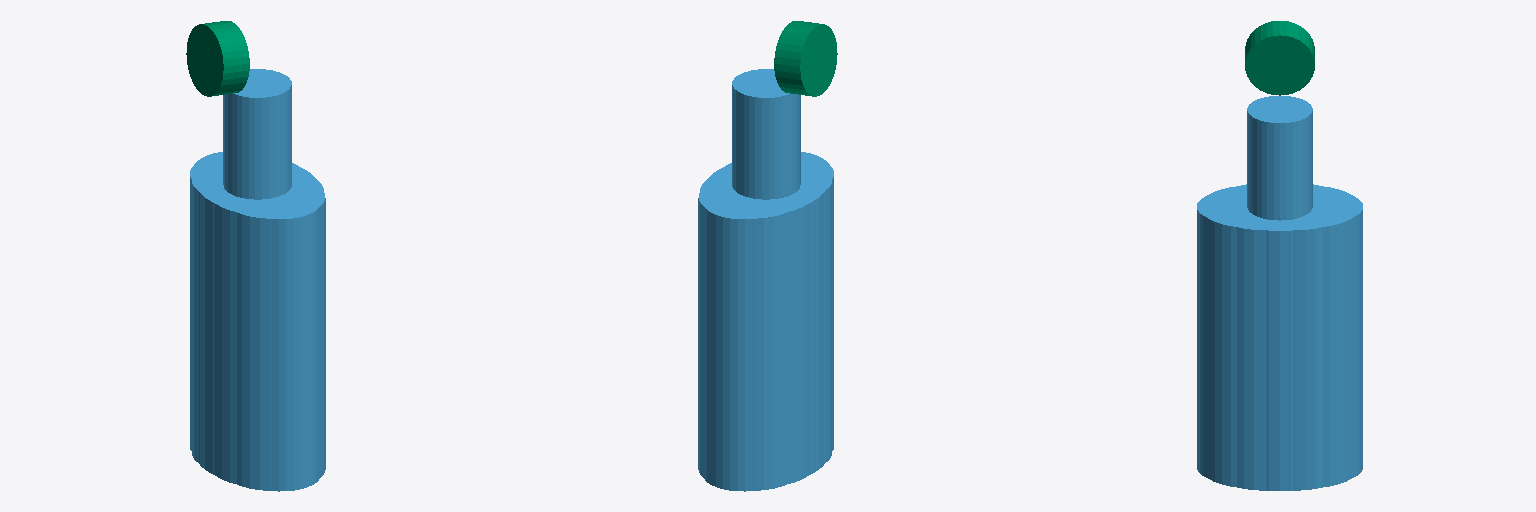
robot.urdf — procedural_ketchup_0:
<?xml version="1.0" ?>
<robot name="procedural_ketchup_0">
  <link name="root">
    <inertial>
      <origin xyz="0 0 0" rpy="0 0 0"/>
      <mass value="0.01"/>
      <inertia ixx="1e-6" ixy="0" ixz="0" iyy="1e-6" iyz="0" izz="1e-6"/>
    </inertial>
  </link>

  <joint name="base_fixed" type="fixed">
    <parent link="root"/>
    <child link="bottom"/>
    <origin xyz="0 0 0" rpy="0 0 0"/>
  </joint>

  <link name="bottom">
    <inertial>
      <origin xyz="0 0 0.06984267995868661" rpy="0 0 0"/>
      <mass value="0.6"/>
      <inertia ixx="1e-4" ixy="0" ixz="0" iyy="1e-4" iyz="0" izz="1e-4"/>
    </inertial>

    <visual>
      <origin xyz="0.0 -0.019218951660425004 0.06116053690744114" rpy="0 0 0"/>
      <geometry><cylinder radius="0.01626568350530389" length="0.12232107381488228"/></geometry>
    </visual>
    <visual>
      <origin xyz="0.0 -0.012812634440283337 0.06116053690744114" rpy="0 0 0"/>
      <geometry><cylinder radius="0.021296778826642774" length="0.12232107381488228"/></geometry>
    </visual>
    <visual>
      <origin xyz="0.0 -0.006406317220141669 0.06116053690744114" rpy="0 0 0"/>
      <geometry><cylinder radius="0.023810522579075726" length="0.12232107381488228"/></geometry>
    </visual>
    <visual>
      <origin xyz="0.0 0.0 0.06116053690744114" rpy="0 0 0"/>
      <geometry><cylinder radius="0.024591401976868255" length="0.12232107381488228"/></geometry>
    </visual>
    <visual>
      <origin xyz="0.0 0.006406317220141669 0.06116053690744114" rpy="0 0 0"/>
      <geometry><cylinder radius="0.023810522579075726" length="0.12232107381488228"/></geometry>
    </visual>
    <visual>
      <origin xyz="0.0 0.012812634440283337 0.06116053690744114" rpy="0 0 0"/>
      <geometry><cylinder radius="0.021296778826642774" length="0.12232107381488228"/></geometry>
    </visual>
    <visual>
      <origin xyz="0.0 0.019218951660425004 0.06116053690744114" rpy="0 0 0"/>
      <geometry><cylinder radius="0.01626568350530389" length="0.12232107381488228"/></geometry>
    </visual>

    <collision>
      <origin xyz="0.0 -0.019218951660425004 0.06116053690744114" rpy="0 0 0"/>
      <geometry><cylinder radius="0.01626568350530389" length="0.12232107381488228"/></geometry>
    </collision>
    <collision>
      <origin xyz="0.0 -0.012812634440283337 0.06116053690744114" rpy="0 0 0"/>
      <geometry><cylinder radius="0.021296778826642774" length="0.12232107381488228"/></geometry>
    </collision>
    <collision>
      <origin xyz="0.0 -0.006406317220141669 0.06116053690744114" rpy="0 0 0"/>
      <geometry><cylinder radius="0.023810522579075726" length="0.12232107381488228"/></geometry>
    </collision>
    <collision>
      <origin xyz="0.0 0.0 0.06116053690744114" rpy="0 0 0"/>
      <geometry><cylinder radius="0.024591401976868255" length="0.12232107381488228"/></geometry>
    </collision>
    <collision>
      <origin xyz="0.0 0.006406317220141669 0.06116053690744114" rpy="0 0 0"/>
      <geometry><cylinder radius="0.023810522579075726" length="0.12232107381488228"/></geometry>
    </collision>
    <collision>
      <origin xyz="0.0 0.012812634440283337 0.06116053690744114" rpy="0 0 0"/>
      <geometry><cylinder radius="0.021296778826642774" length="0.12232107381488228"/></geometry>
    </collision>
    <collision>
      <origin xyz="0.0 0.019218951660425004 0.06116053690744114" rpy="0 0 0"/>
      <geometry><cylinder radius="0.01626568350530389" length="0.12232107381488228"/></geometry>
    </collision>

    <visual>
      <origin xyz="0 0 0.1451646651689792" rpy="0 0 0"/>
      <geometry><cylinder radius="0.013945429774513504" length="0.045687182708193816"/></geometry>
    </visual>

    <collision>
      <origin xyz="0 0 0.1451646651689792" rpy="0 0 0"/>
      <geometry><cylinder radius="0.013945429774513504" length="0.045687182708193816"/></geometry>
    </collision>
  </link>

  <joint name="rotation" type="revolute">
    <parent link="bottom"/>
    <child link="top"/>
    <origin xyz="-0.013945429774513504 0 0.1680082565230761" rpy="0 0 0"/>
    <axis xyz="0 -1 0"/>
    <dynamics damping="0.5" friction="0.2"/>
    <limit effort="1000.0" velocity="200.0" lower="0.087" upper="2.85"/>
  </joint>

  <link name="top">
    <inertial>
      <origin xyz="0.014934201938486135 0.0 0.006182356070820062" rpy="0 0 0"/>
      <mass value="0.08"/>
      <inertia ixx="1e-4" ixy="0" ixz="0" iyy="1e-4" iyz="0" izz="1e-4"/>
    </inertial>

    <visual>
      <origin xyz="0.014934201938486135 0.0 0.006182356070820062" rpy="0 0 0"/>
      <geometry><cylinder radius="0.014934201938486135" length="0.012364712141640123"/></geometry>
    </visual>
    <collision>
      <origin xyz="0.014934201938486135 0.0 0.006182356070820062" rpy="0 0 0"/>
      <geometry><cylinder radius="0.014934201938486135" length="0.012364712141640123"/></geometry>
    </collision>
  </link>
</robot>

--- Facts derived from the render (not from the file) ---
The picture shows the robot from 3 angles, left to right: view 1: azimuth 30°, elevation 25°; view 2: azimuth 150°, elevation 25°; view 3: azimuth 270°, elevation 25°; orthographic projection.
Robot: procedural_ketchup_0 — 3 links, 2 joints (1 revolute, 1 fixed); root link root; default pose: all joints at 0 but 1 set to mid-range because 0 is outside their limits (rotation = 1.47).
Links seen in each view (by area): view 1: bottom, top; view 2: bottom, top; view 3: bottom, top.
Link boxes in pixels (x1=…): bottom: x1=190, y1=69, x2=325, y2=491; top: x1=186, y1=21, x2=249, y2=96; bottom: x1=698, y1=69, x2=833, y2=491; top: x1=774, y1=21, x2=837, y2=96; bottom: x1=1197, y1=96, x2=1362, y2=490; top: x1=1245, y1=21, x2=1314, y2=95.
Size in the robot's own frame: 0.0508 by 0.071 by 0.199 metres.
Geometry: primitives only (box / cylinder / sphere), no mesh files.
